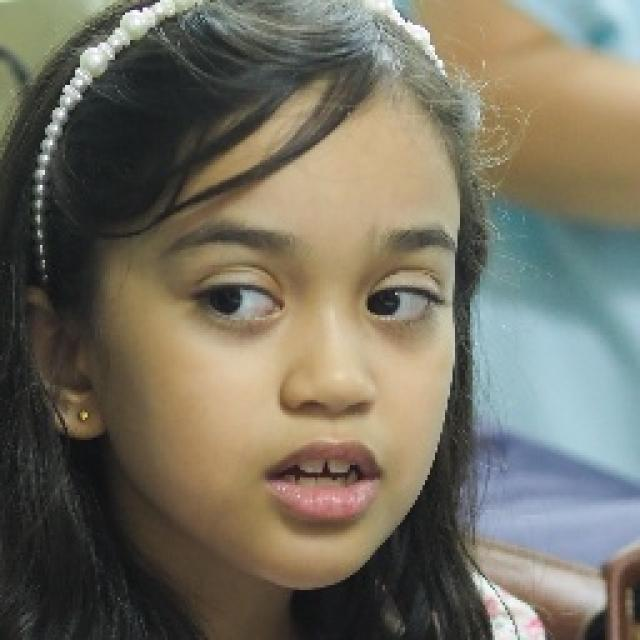earlobe: (58, 388, 108, 442)
eye: (194, 276, 286, 324), (370, 276, 444, 322)
nose: (289, 392, 374, 433)
wholeear: (11, 285, 108, 442)
